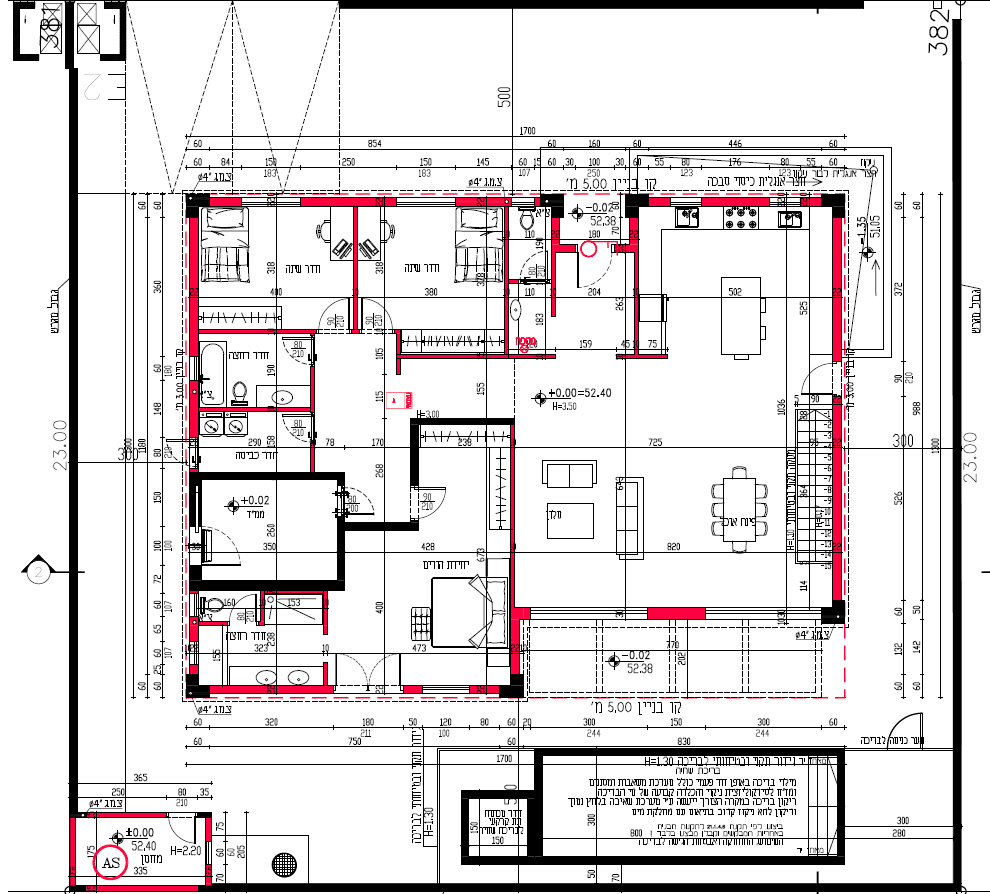door: (330, 652, 405, 681), (212, 525, 244, 572), (574, 260, 619, 291), (881, 706, 927, 736), (359, 292, 399, 324), (422, 484, 451, 528), (160, 821, 202, 849), (799, 358, 826, 400), (279, 410, 309, 445), (351, 486, 380, 520), (318, 295, 354, 322), (278, 335, 306, 367), (226, 595, 259, 617)
wall: (952, 22, 962, 894), (238, 882, 903, 892), (70, 72, 77, 799), (185, 190, 213, 354), (531, 745, 855, 758), (186, 565, 347, 590), (460, 857, 850, 867), (829, 399, 843, 597), (509, 451, 521, 677), (206, 468, 350, 486), (523, 751, 543, 865), (829, 220, 843, 360), (64, 817, 82, 887), (629, 223, 639, 346), (205, 325, 316, 336), (405, 417, 422, 487), (302, 196, 396, 208), (817, 594, 849, 629), (333, 524, 349, 592), (497, 673, 529, 707), (181, 674, 216, 701), (409, 417, 515, 425), (647, 607, 704, 620), (461, 790, 540, 799), (701, 196, 769, 206), (539, 193, 565, 219), (819, 193, 846, 218), (625, 193, 650, 219), (397, 354, 555, 358), (503, 207, 507, 355), (461, 789, 468, 862), (277, 685, 332, 693), (350, 298, 359, 344), (402, 683, 422, 694), (552, 243, 576, 252), (310, 366, 314, 409), (323, 591, 327, 634), (322, 663, 327, 685)
window: (702, 604, 825, 625), (525, 604, 651, 621), (239, 192, 303, 210), (394, 195, 458, 210), (766, 193, 808, 209), (668, 193, 707, 208)
